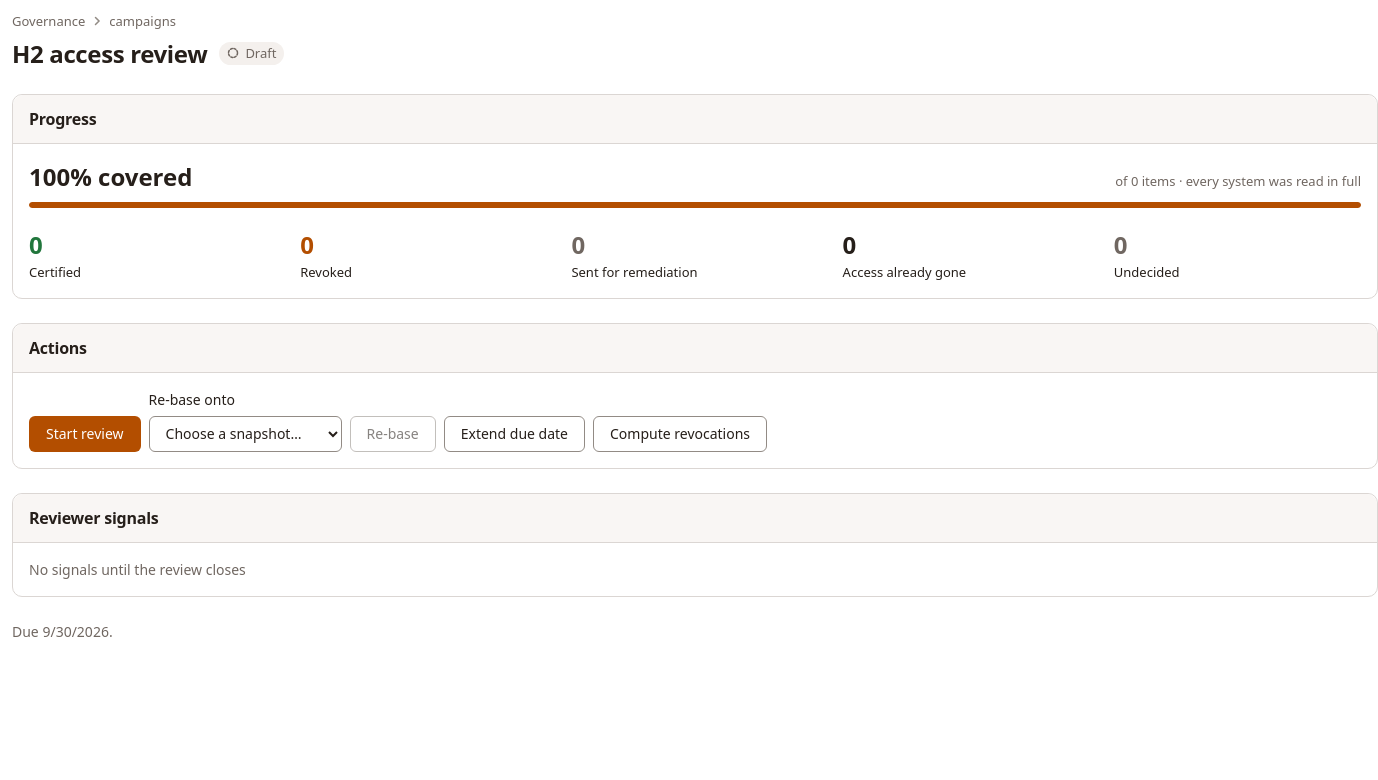
Scenario: starting a campaign › says how many resolved to nobody
Click the button "Start review". click: (85,434)
box: [29,416,140,452]
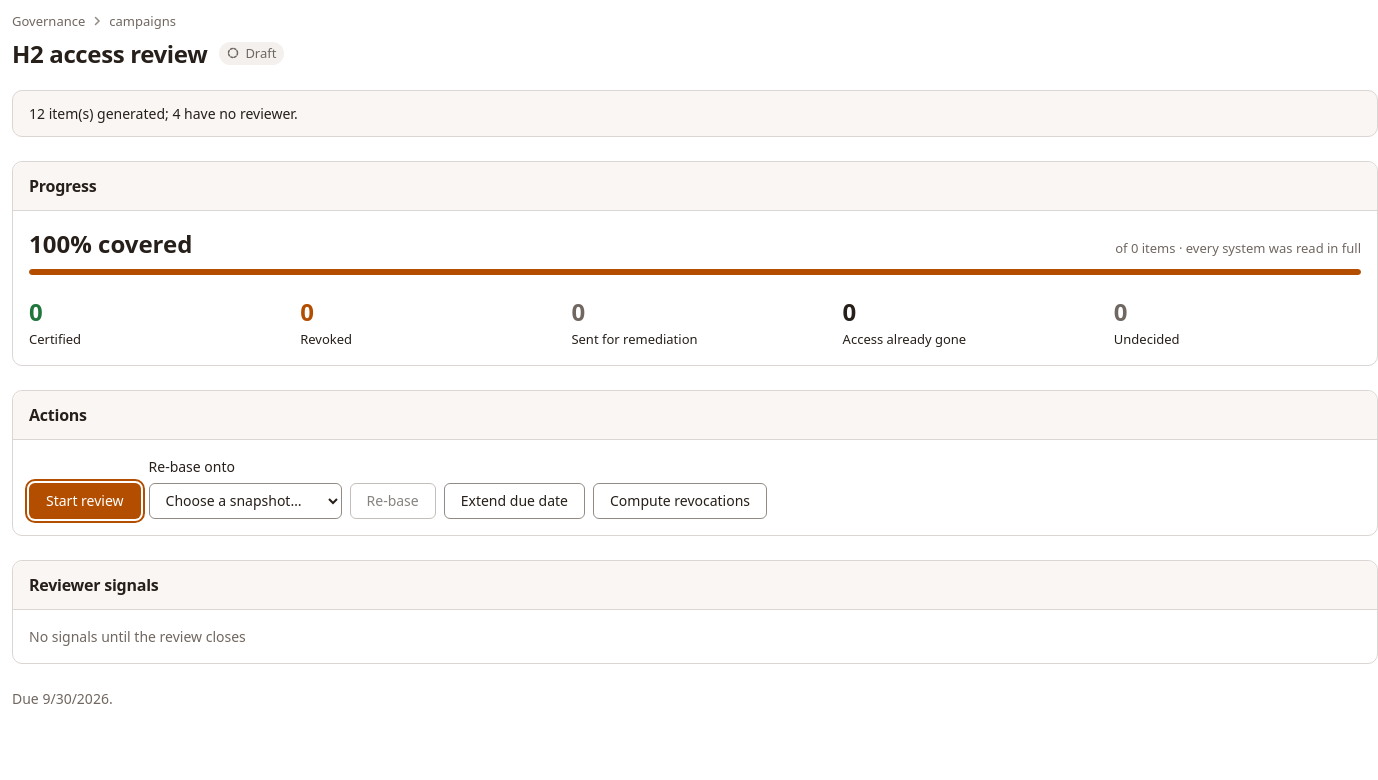
Now the text "12 item(s) generated; 4 have no reviewer." is shown, box [29,104,298,123]
